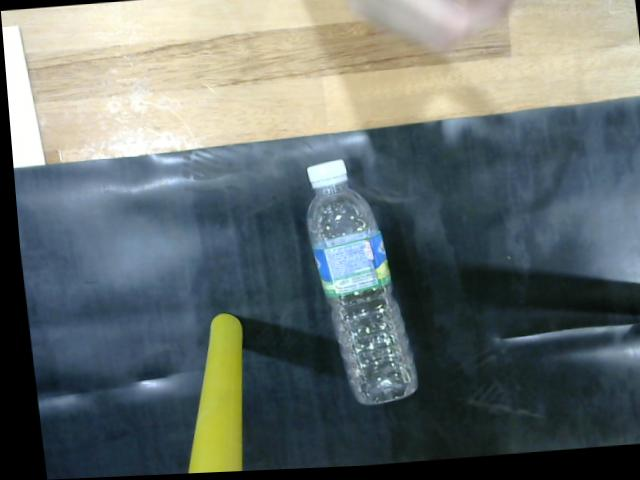bottle: (296, 152, 416, 414)
